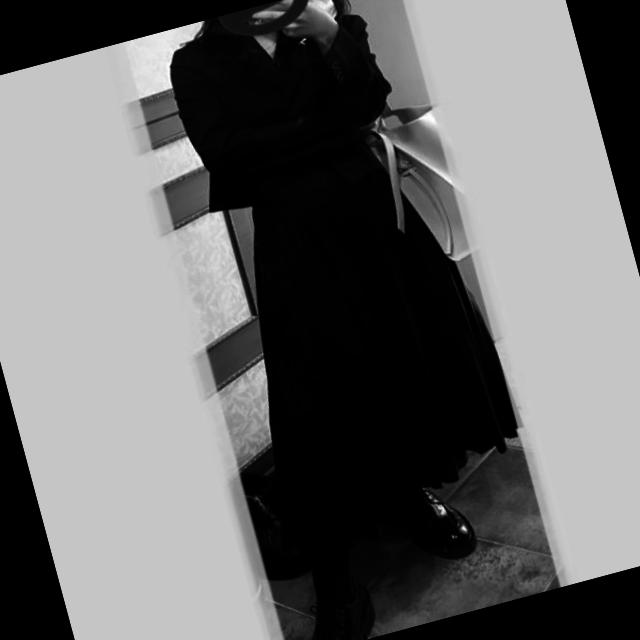blazer: (159, 0, 411, 219)
skirt: (181, 126, 531, 572)
